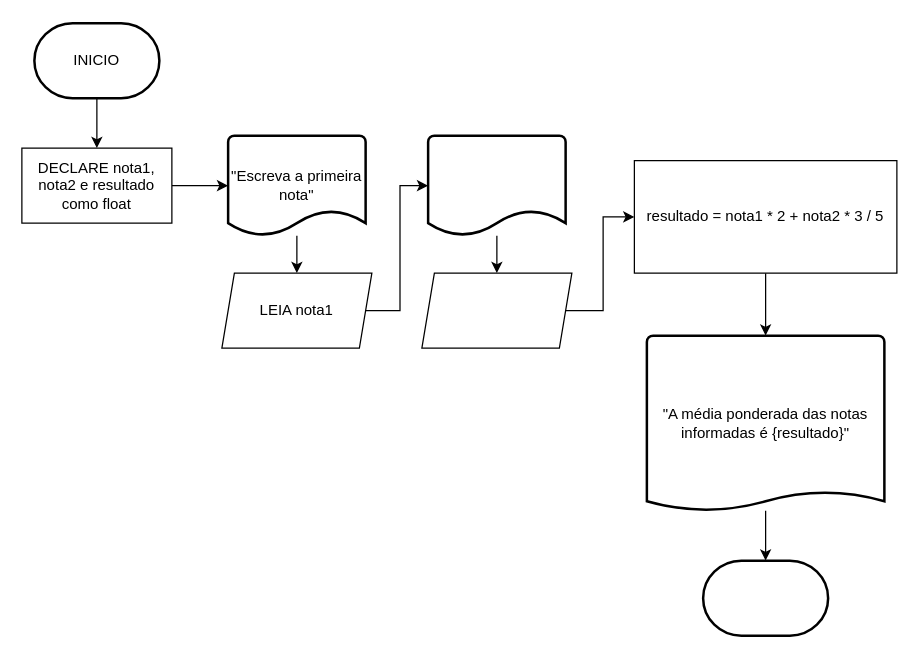
This 919x658 diagram has some shape labels left out. The shapes that lost their labels are listed below. From the top down, each one's centre as x and y in pixels, then its label:
pixel 496 185: "Escreva a segunda nota"
pixel 496 310: LEIA nota2
pixel 765 597: FIM
